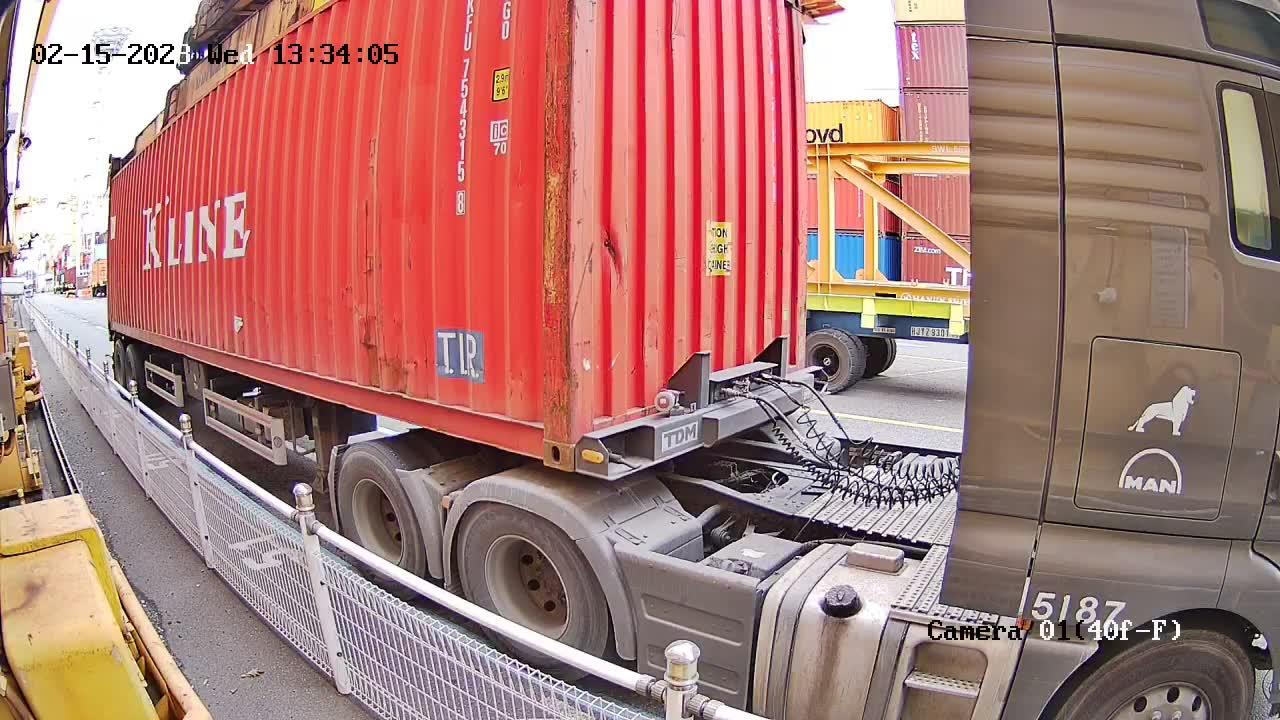Chassis: (577, 370, 810, 476)
Hole_R: (515, 391, 579, 475)
Tire: (457, 506, 609, 656), (336, 446, 423, 574)
